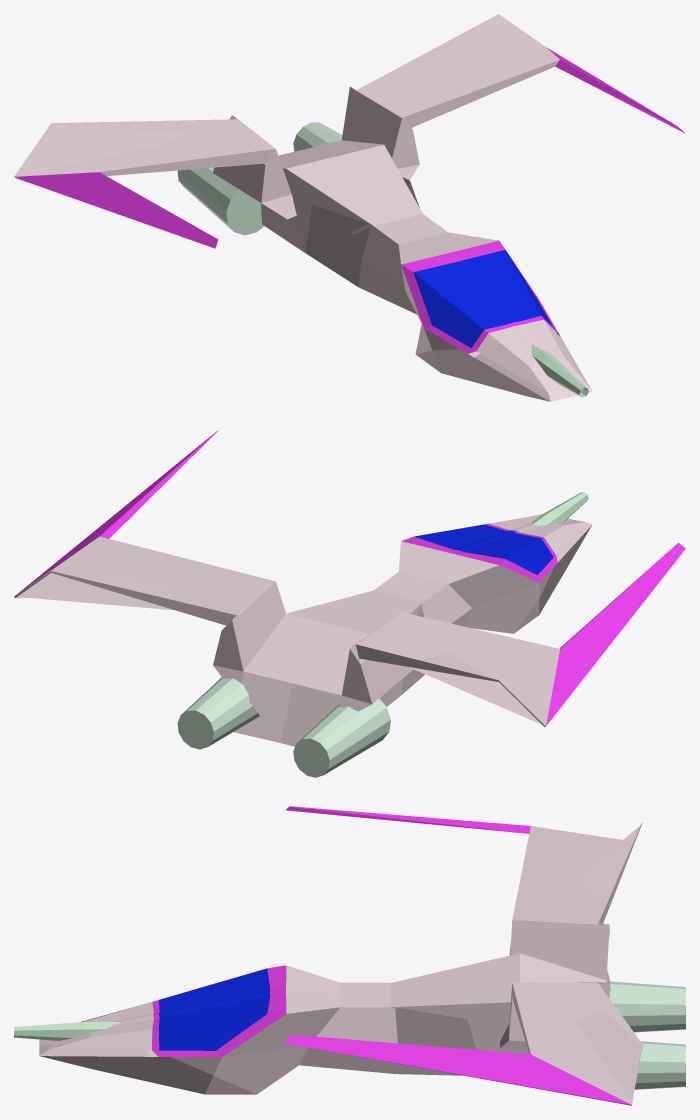
File: emenyShipModel.fbx
3 renders of one model, top to bottom at view 1: azimuth 30°, elevation 25°; view 2: azimuth 150°, elevation 25°; view 3: azimuth 270°, elevation 25°, orthographic.
Visible parts, largest first — view 1: body, turbins, gun; view 2: body, turbins, gun; view 3: body, turbins, gun.
Boxes of the visible parts, <box> form: body: <box>14,14,685,401</box>; turbins: <box>177,122,342,235</box>; gun: <box>531,344,588,397</box>; body: <box>14,430,685,746</box>; turbins: <box>177,677,390,777</box>; gun: <box>531,492,588,525</box>; body: <box>39,806,642,1105</box>; turbins: <box>609,981,685,1089</box>; gun: <box>14,1022,120,1040</box>.
Bounding box in the file's own units: 832 × 220 × 895.
